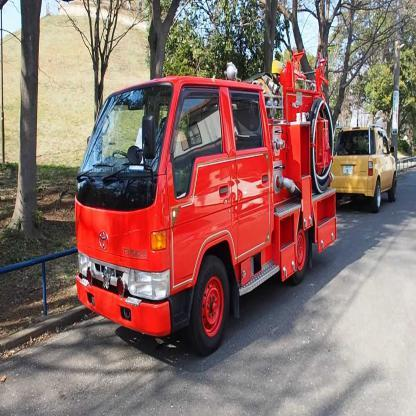fire-truck: (60, 34, 390, 369)
